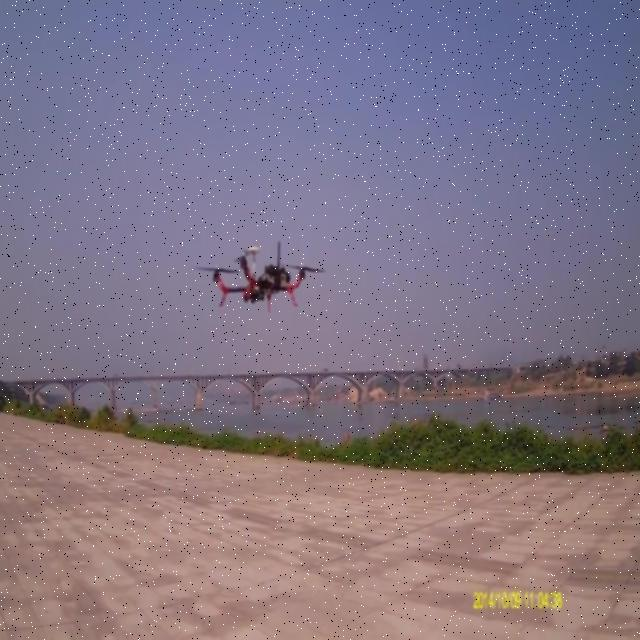UAV: (204, 240, 316, 316)
